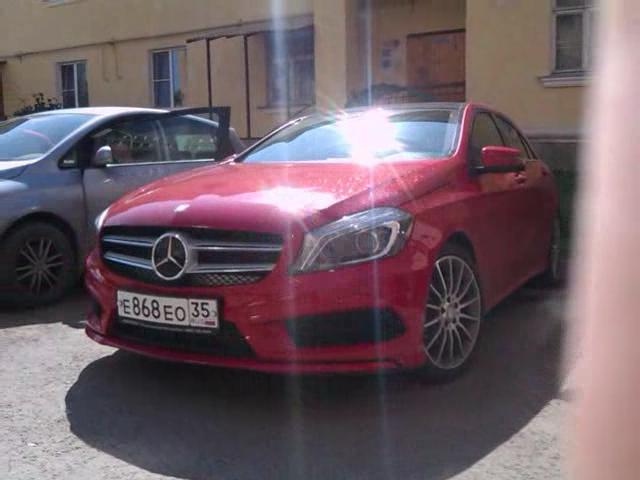car license plate: (114, 285, 218, 334)
